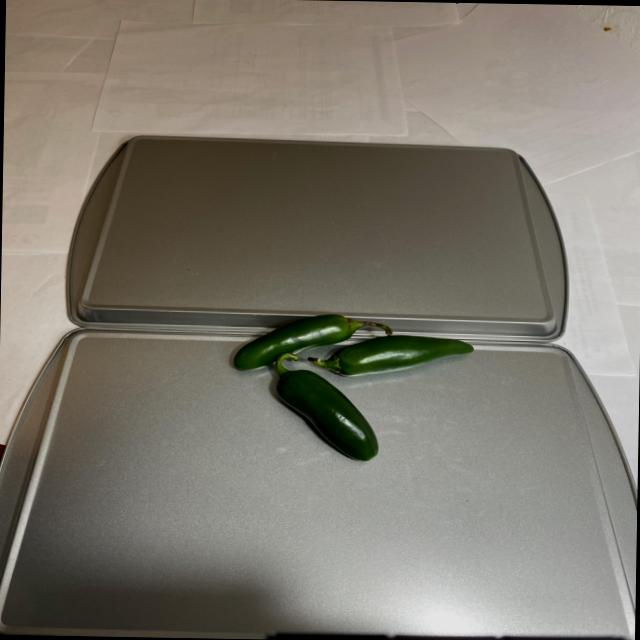chilli: (216, 308, 481, 468)
